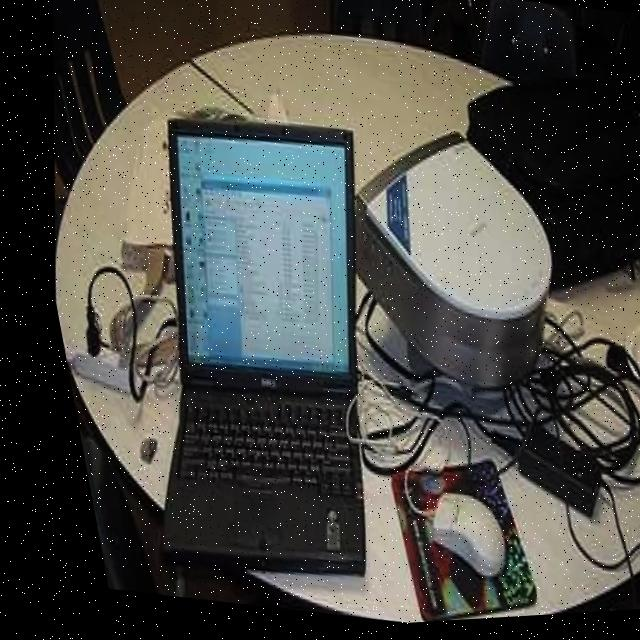laptop: (70, 97, 432, 608)
